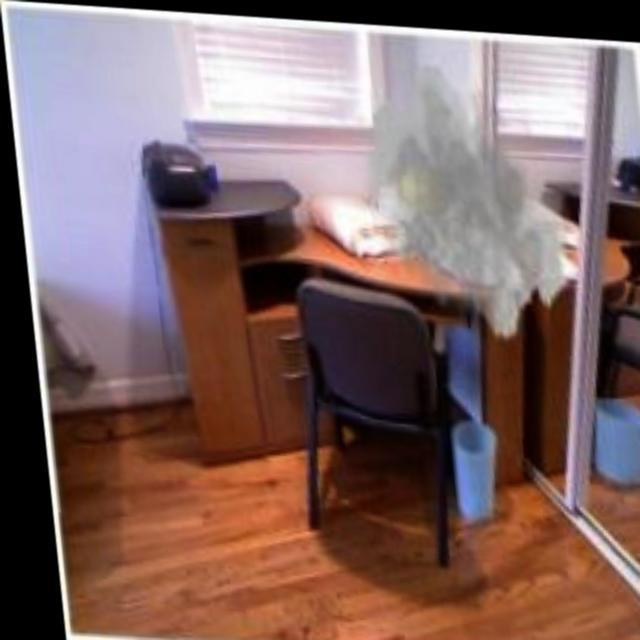Smoke: (354, 22, 578, 341)
